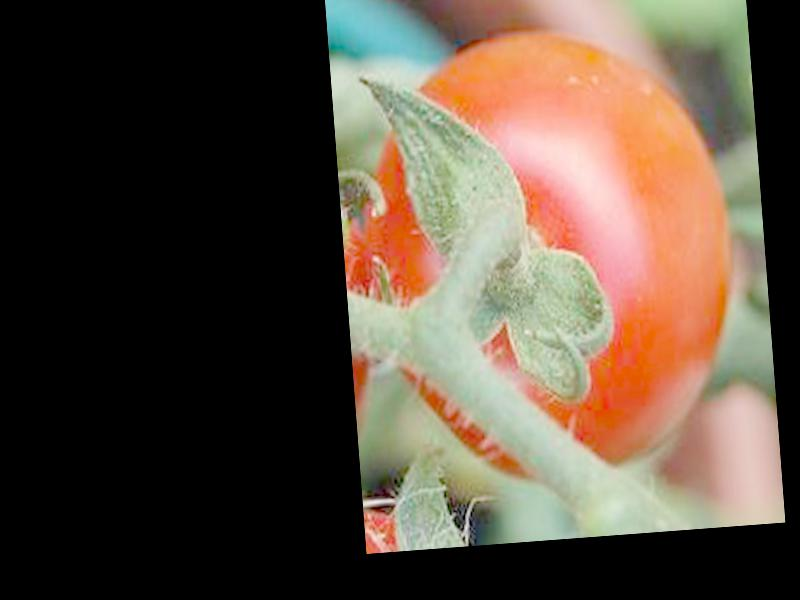Tomato: (338, 18, 746, 497)
